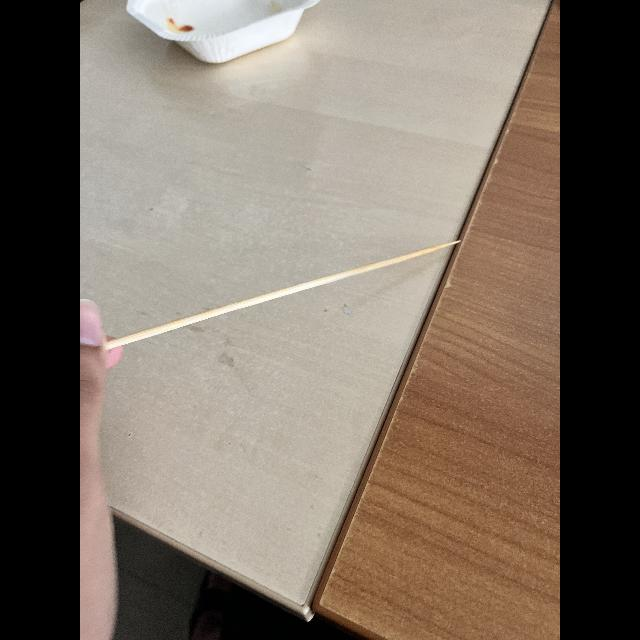cardboard_bowl: (112, 0, 338, 80)
stick: (80, 209, 468, 383)
